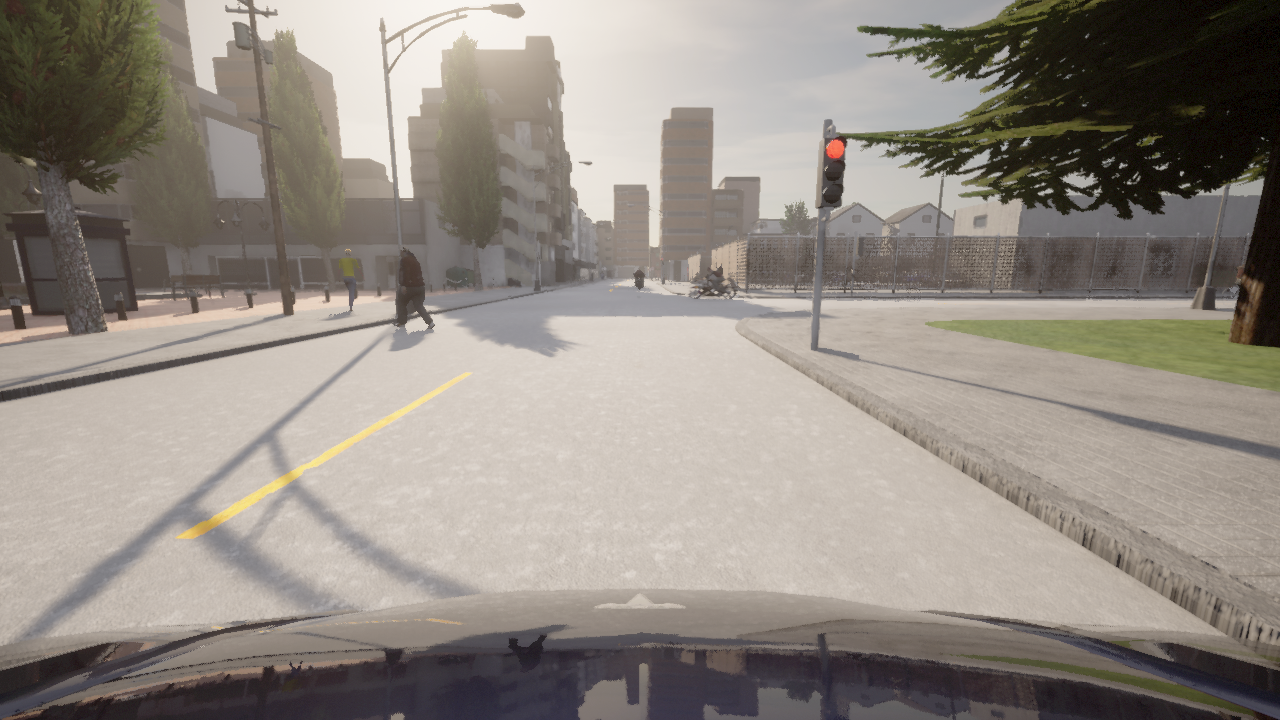cyclist: (0, 588, 1279, 719), (687, 273, 736, 299), (870, 267, 898, 283), (912, 269, 940, 283), (1222, 284, 1239, 306), (781, 271, 813, 282), (750, 266, 772, 280), (823, 270, 847, 282), (899, 271, 917, 282), (791, 273, 810, 283), (635, 274, 643, 288), (935, 271, 940, 273)
pedestrian: (394, 245, 435, 329), (337, 248, 365, 312), (716, 262, 723, 287)
